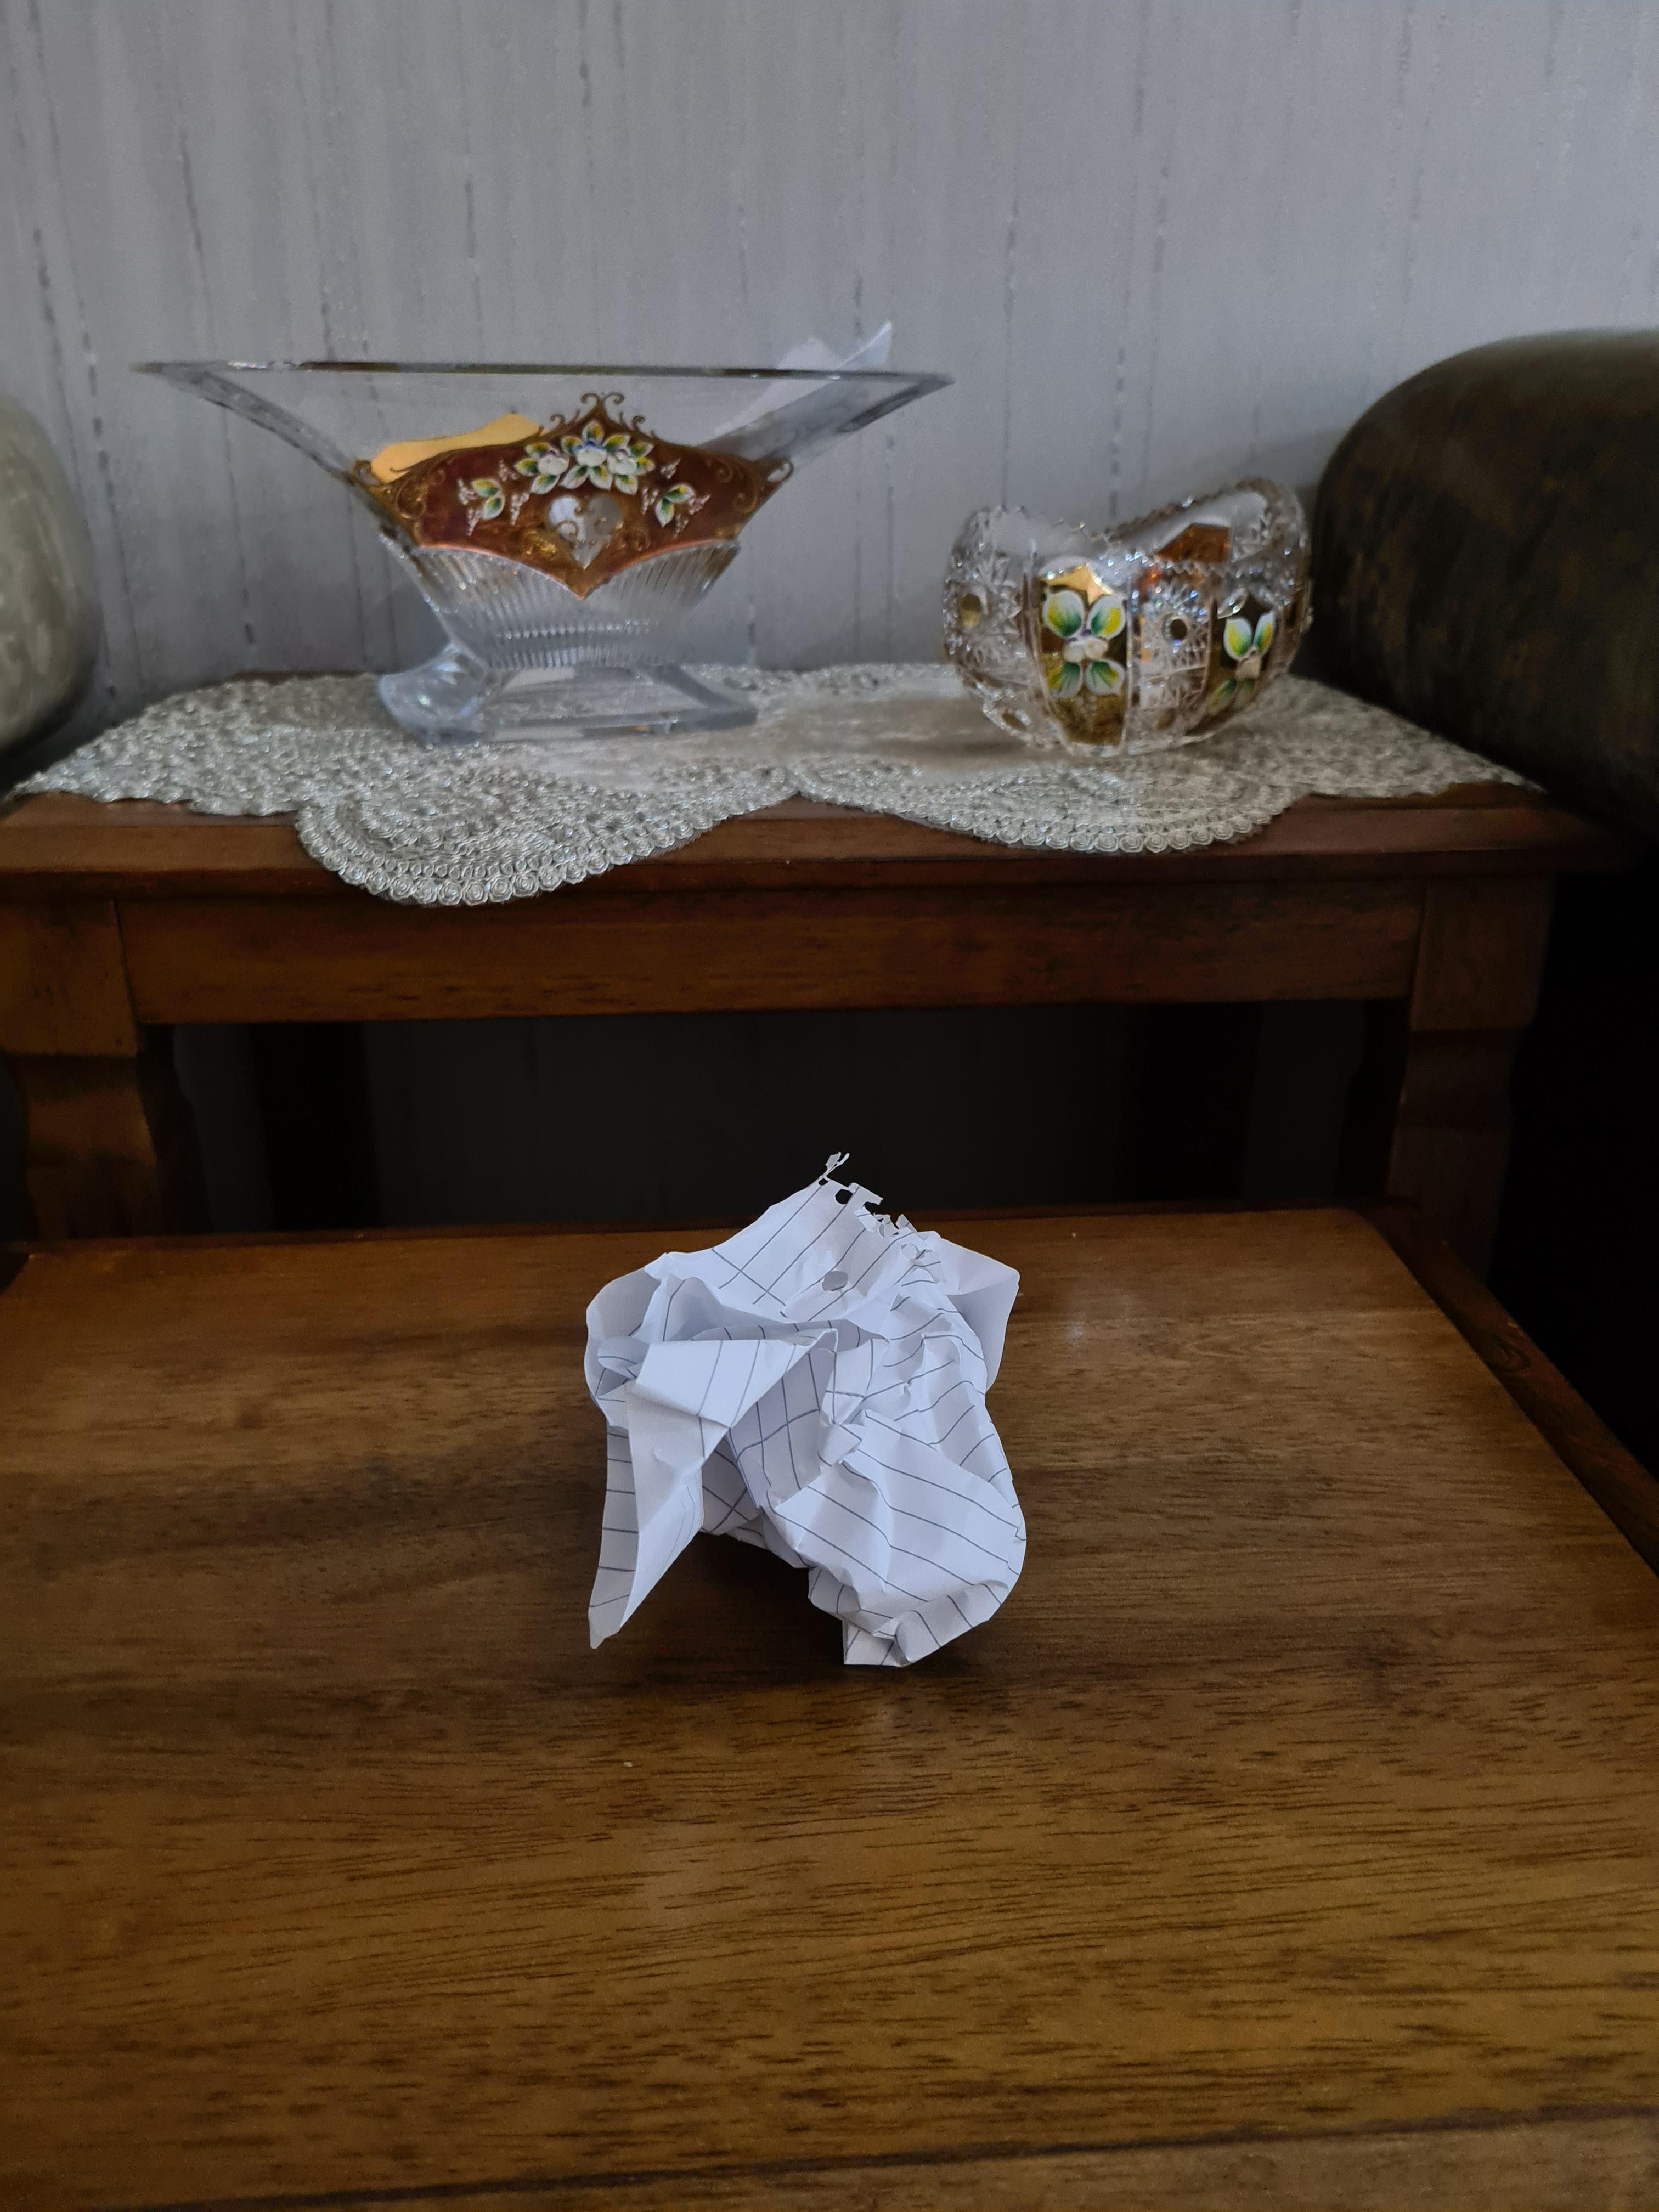Paper: (572, 1153, 1023, 1708)
